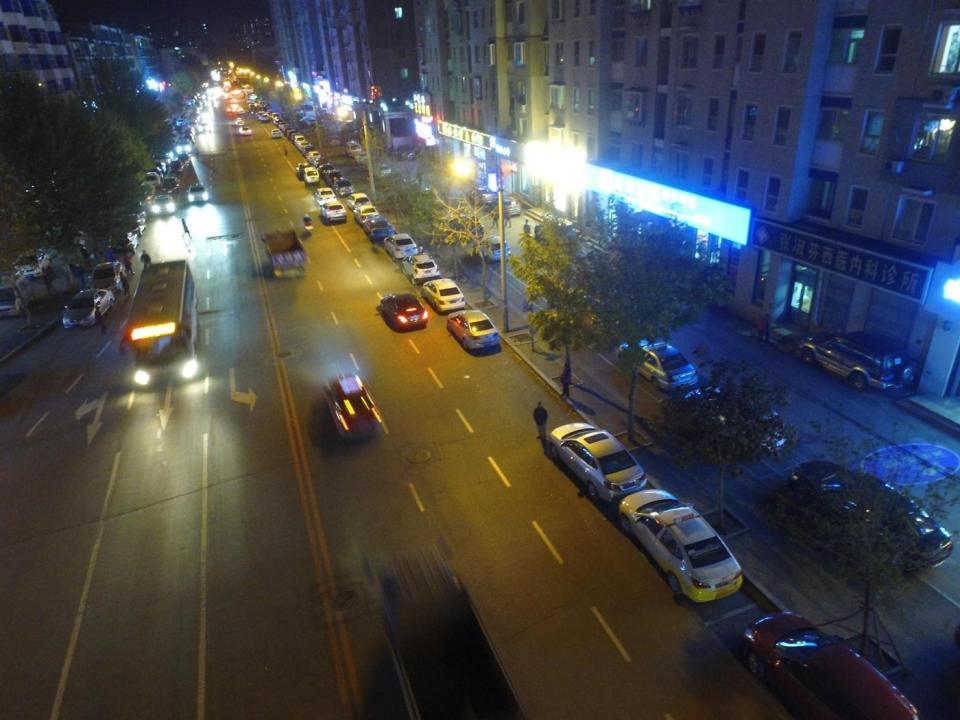bus: (121, 261, 201, 384), (243, 84, 254, 95)
car: (790, 459, 954, 573), (620, 489, 744, 602), (549, 420, 647, 503), (680, 386, 789, 459), (618, 338, 698, 393), (324, 373, 384, 442), (447, 308, 502, 350), (61, 289, 115, 328), (380, 292, 428, 333), (422, 276, 465, 313), (401, 253, 442, 287), (89, 261, 126, 294), (384, 232, 418, 262), (364, 216, 394, 241), (116, 214, 147, 236), (110, 233, 138, 256), (320, 200, 346, 224), (353, 204, 379, 227), (468, 186, 496, 206), (152, 194, 175, 215), (332, 178, 354, 199), (348, 193, 371, 213), (187, 184, 209, 202), (316, 187, 337, 205), (324, 170, 342, 188), (312, 157, 328, 173), (162, 178, 180, 192), (320, 163, 333, 178), (307, 152, 322, 163), (178, 154, 191, 166), (239, 126, 252, 137), (302, 146, 315, 157), (297, 142, 311, 151), (183, 134, 195, 144), (271, 128, 282, 138), (301, 105, 318, 111), (176, 118, 186, 126), (261, 114, 270, 122), (236, 118, 244, 126), (257, 111, 265, 119)
truck: (364, 543, 528, 720), (259, 228, 309, 280)
van: (742, 609, 923, 720), (800, 326, 915, 394), (0, 274, 36, 319), (537, 216, 577, 247), (15, 250, 50, 280), (477, 236, 510, 261), (490, 195, 521, 218), (303, 166, 320, 185), (144, 171, 160, 190), (346, 140, 362, 158), (176, 138, 192, 154), (373, 164, 391, 177), (297, 163, 309, 182), (170, 160, 182, 172), (294, 134, 305, 147), (188, 120, 198, 128), (272, 112, 280, 122)
